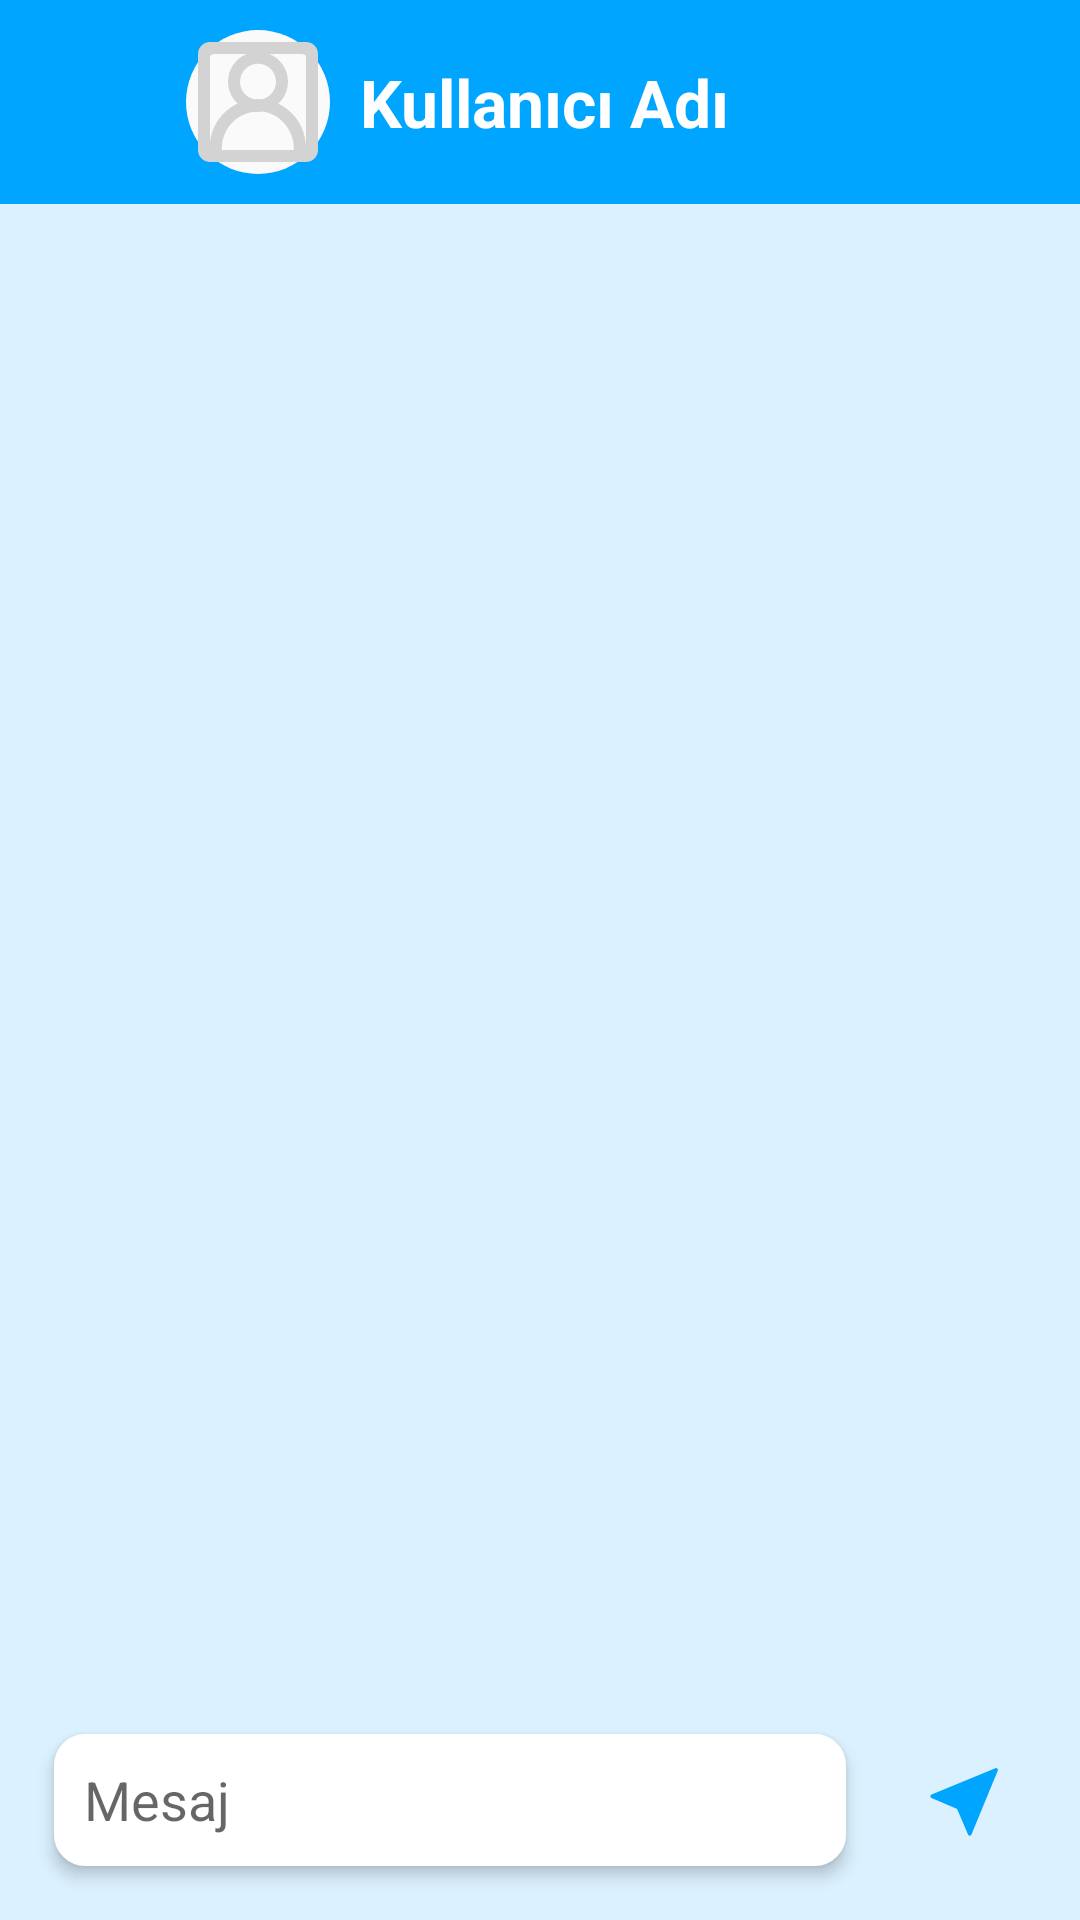

Icon click points for this 1080w x 1920h phone screenshot, format [x,y]:
profileimage: [258,102]
send: [964,1802]
